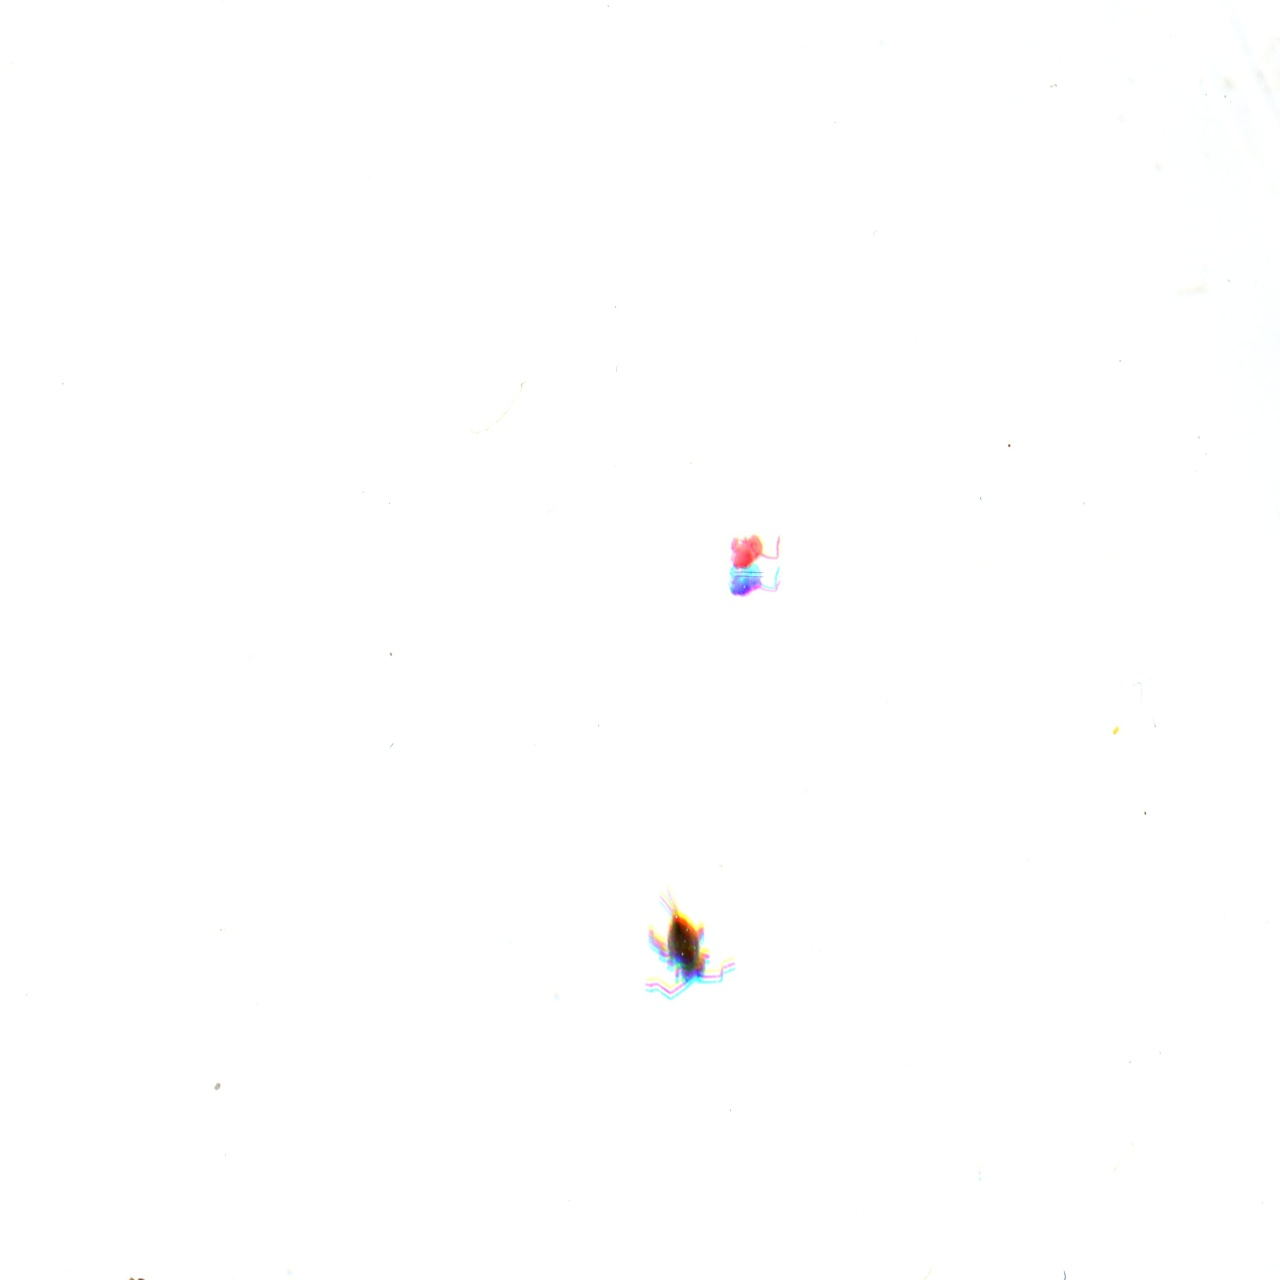arthropod: (612, 869, 747, 1013), (726, 530, 785, 600)
